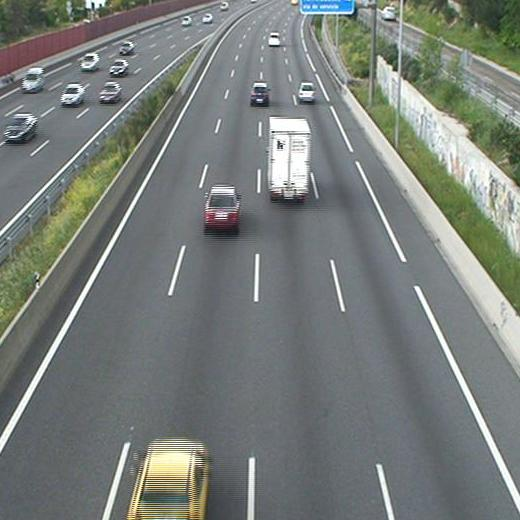car: (127, 440, 211, 520), (204, 184, 241, 236), (250, 81, 269, 106), (299, 82, 315, 103), (268, 31, 281, 48)
small-truck: (268, 116, 311, 204)
